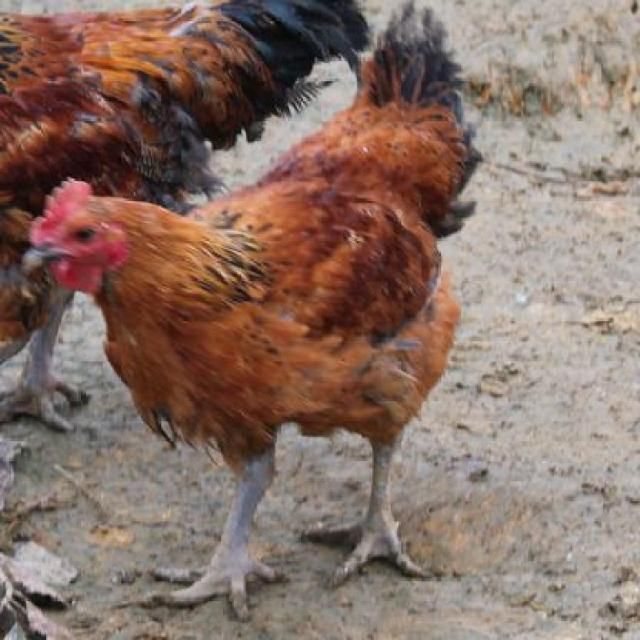cook: (32, 11, 480, 614)
